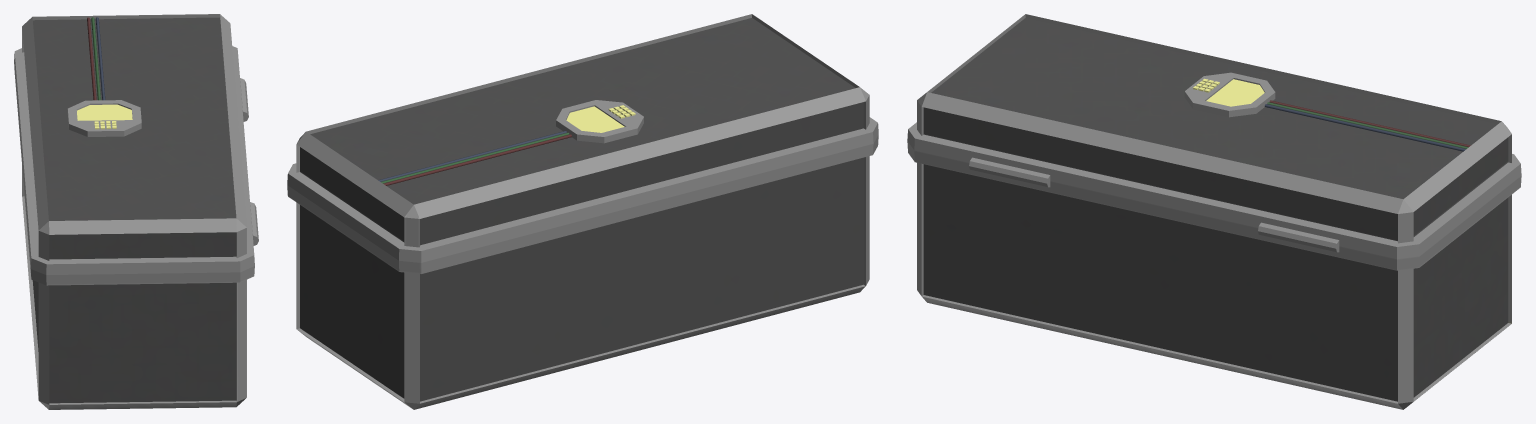
Rendered from Locked_Crate_Closed_09.fbx.
The picture shows the model from 3 angles, left to right: view 1: azimuth 30°, elevation 25°; view 2: azimuth 150°, elevation 25°; view 3: azimuth 270°, elevation 25°; orthographic projection. The views are drawn at different scales.
Visible parts, largest first — view 1: Locked_Crate_Closed_09; view 2: Locked_Crate_Closed_09; view 3: Locked_Crate_Closed_09.
Part boxes in pixels (x1,y1,x2,y2): Locked_Crate_Closed_09: (14, 14, 258, 409); Locked_Crate_Closed_09: (287, 14, 878, 409); Locked_Crate_Closed_09: (907, 14, 1521, 409).
Size of the model in its own units: 589 by 292 by 756.
